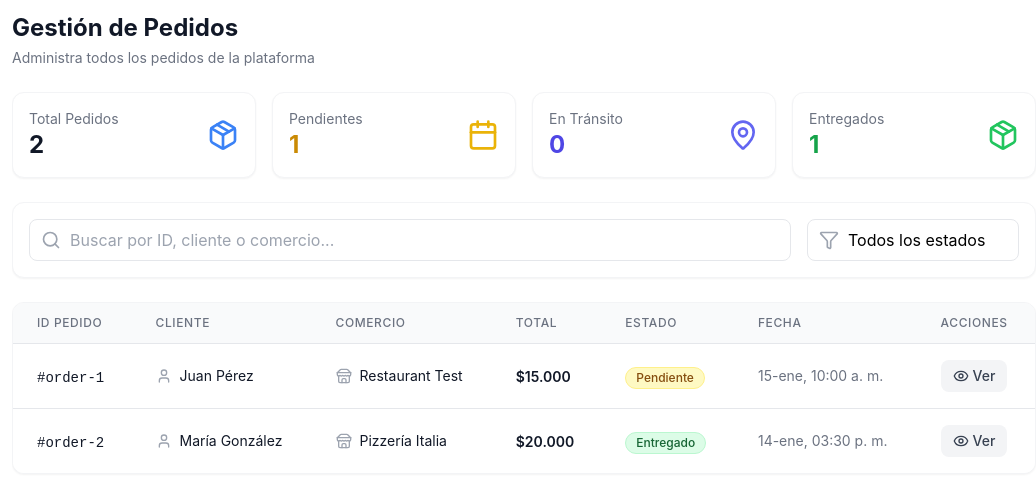
Test: Orders Component › Filtros › debe buscar pedidos por ID
expect the text "Restaurant Test" is shown: met, box [360,366,463,386]
Type "order-1" into the field with placeholder "Buscar por ID, cliente o comercio...".
click(410, 240); type("order-1")  # box [29,219,791,261]
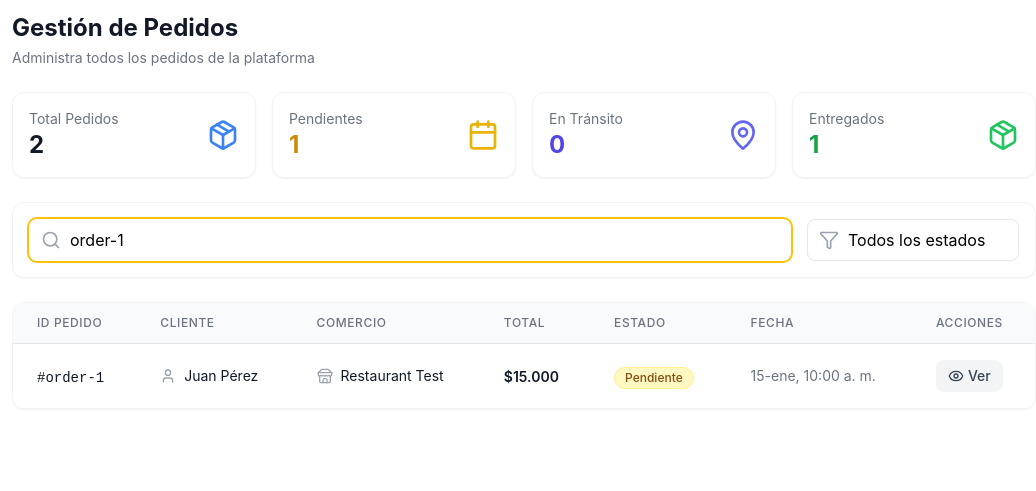
expect the text "Restaurant Test" is shown: met, box [340,366,444,386]
expect the text "Pizzería Italia" is gone: met
